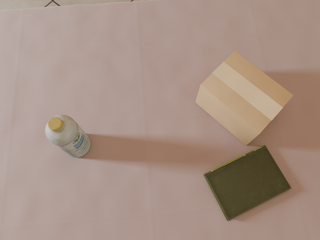book: (204, 145, 291, 221)
bottle: (45, 115, 91, 157)
box: (196, 51, 293, 145)
